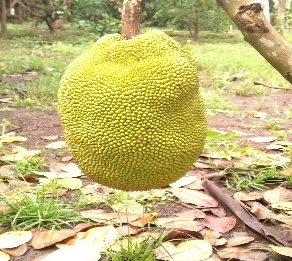Mit: (59, 30, 205, 188)
